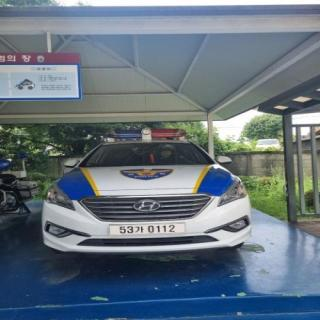Police_car: (39, 130, 253, 258)
